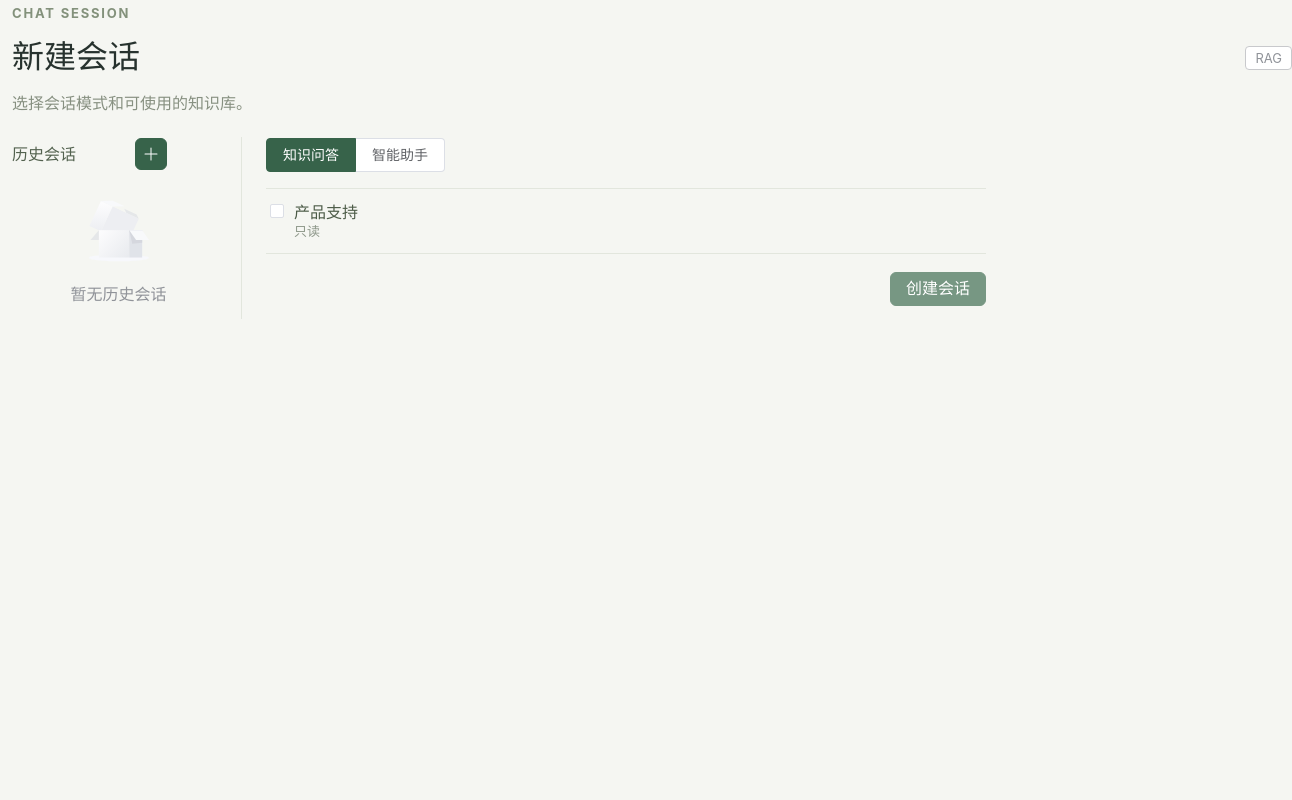
会话创建页面 › 创建智能助手会话并展示工单查询时刻和历史标记（继承：true）
Click the radio button labelled "智能助手" at (400, 155), box x1=356 y1=138 x2=445 y2=172
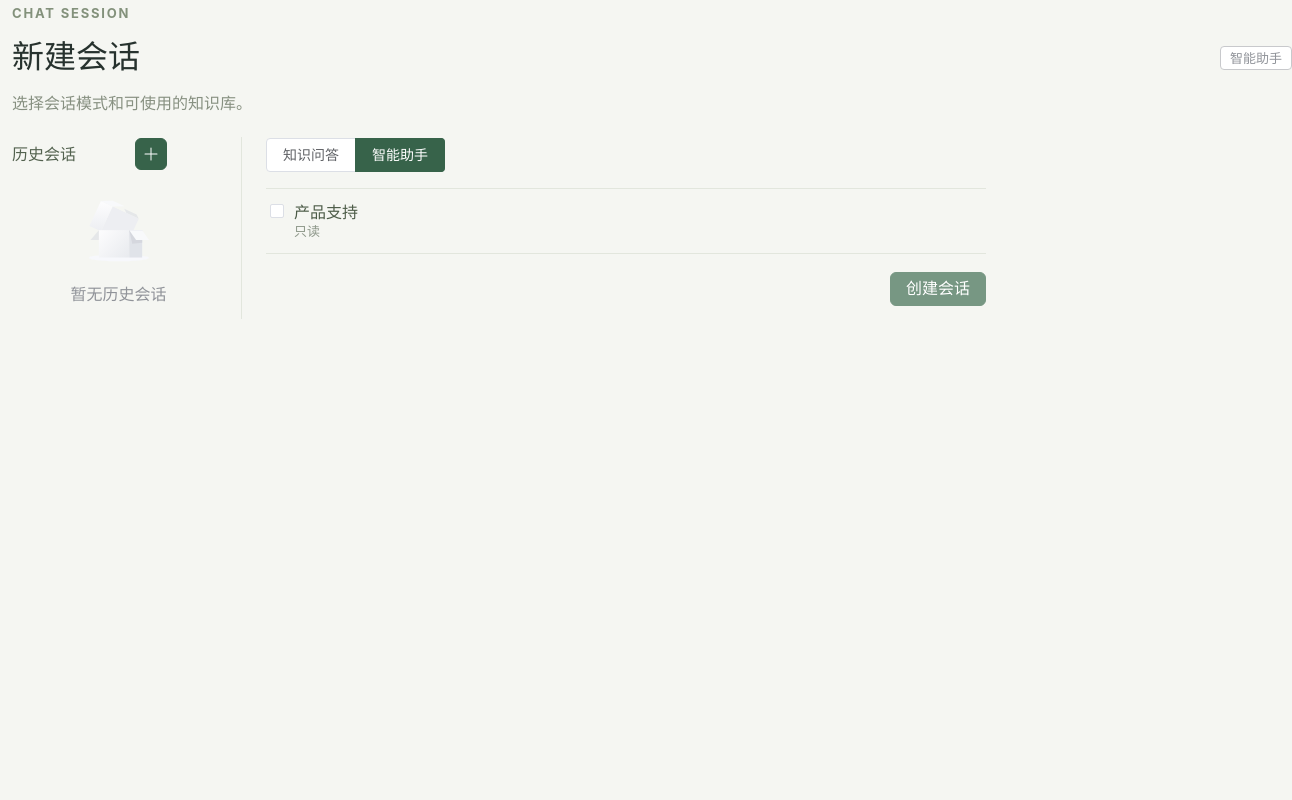
Click the checkbox labelled "产品支持 只读" at (326, 212), box x1=266 y1=189 x2=986 y2=254
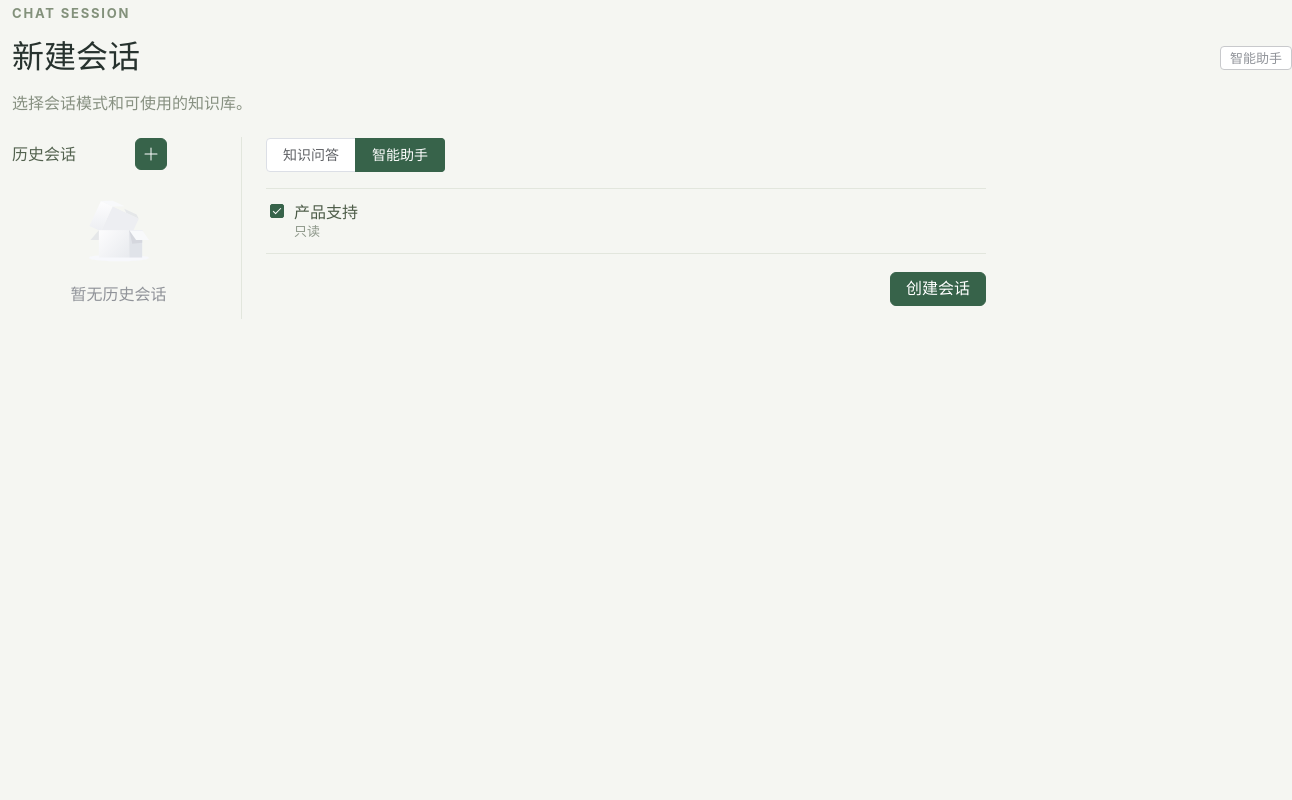
Submit the form with class "chat-session-form", box x1=266 y1=137 x2=986 y2=306
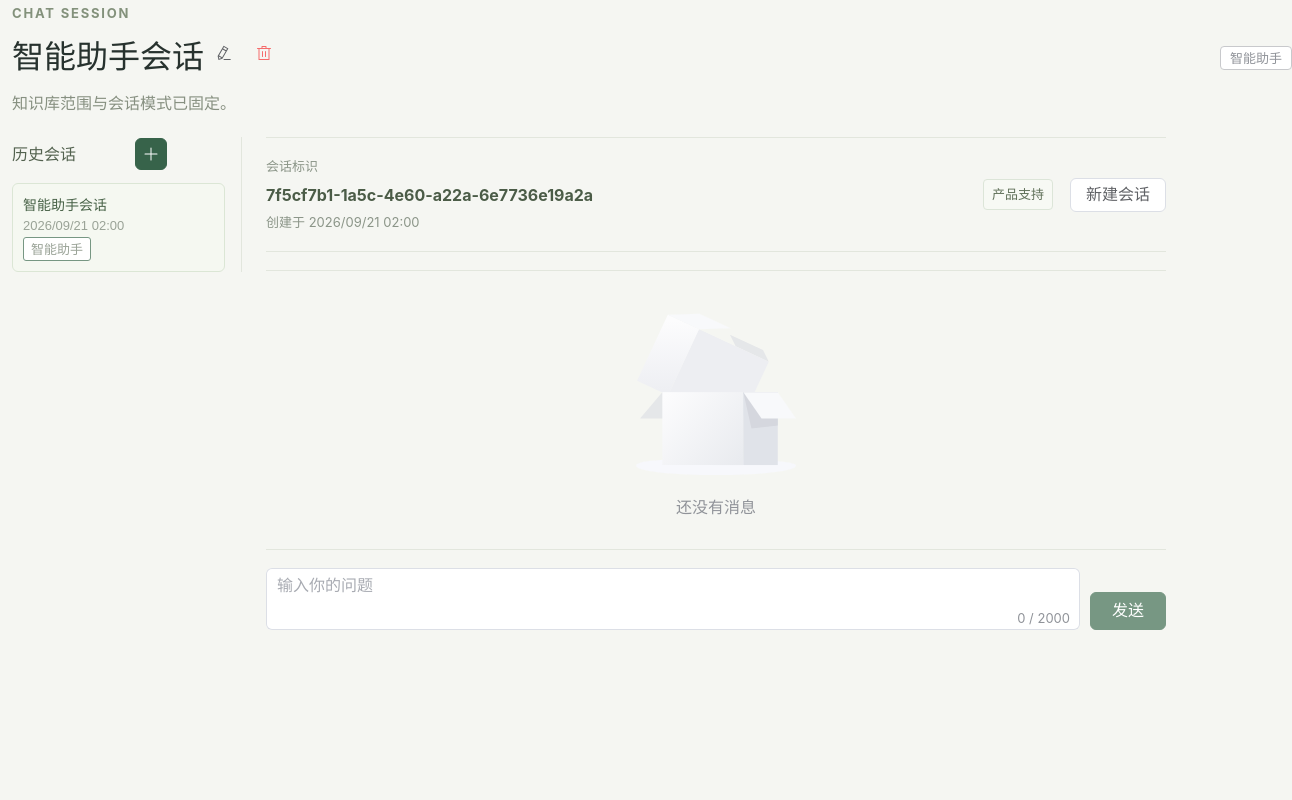
Type "T10086 当前状态" into the text box with placeholder "输入你的问题" at (673, 599), box x1=266 y1=568 x2=1080 y2=630
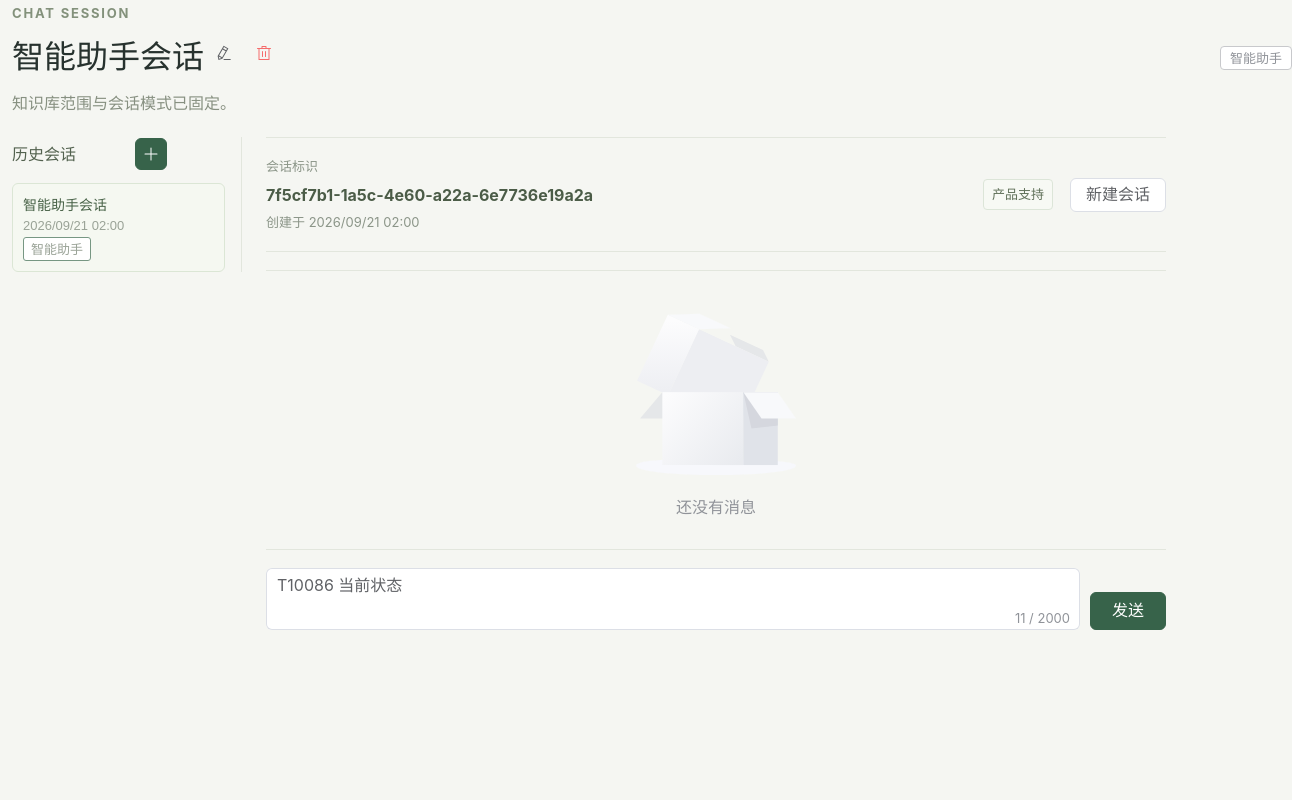
Submit the form with class "chat-composer", box x1=266 y1=568 x2=1166 y2=630
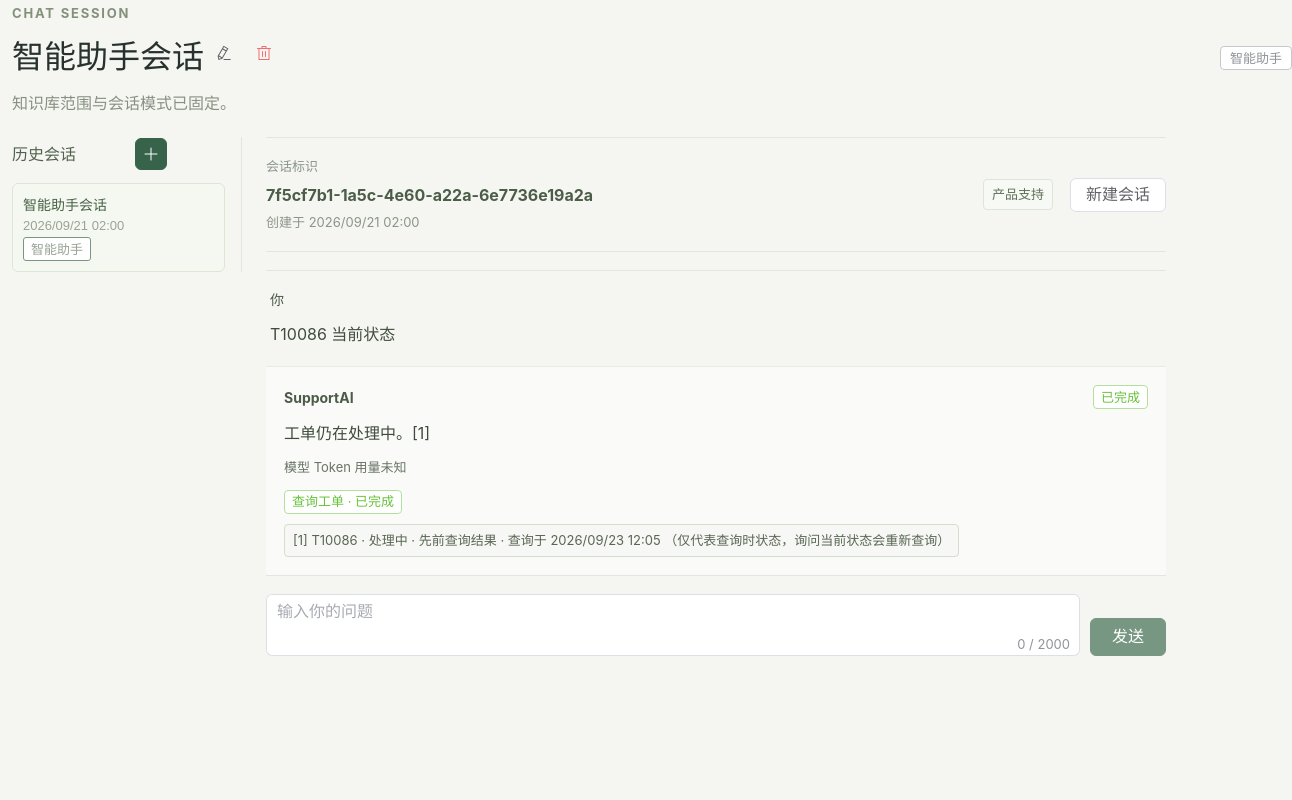
expect the text "查询工单 · 已完成" is shown: met, box x1=292 y1=495 x2=394 y2=508
expect the text "[1] T10086 · 处理中" is shown: met, box x1=293 y1=532 x2=664 y2=548
expect the text "先前查询结果" is shown: met, box x1=293 y1=532 x2=664 y2=548
